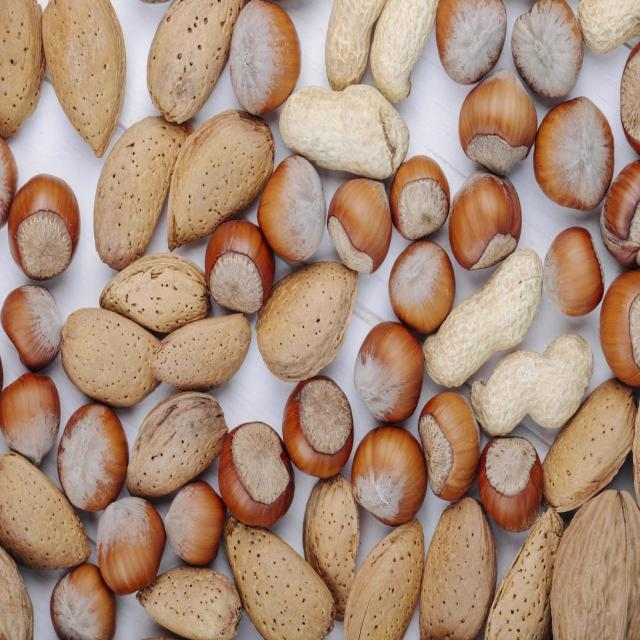Frutta secca: (13, 17, 621, 629)
